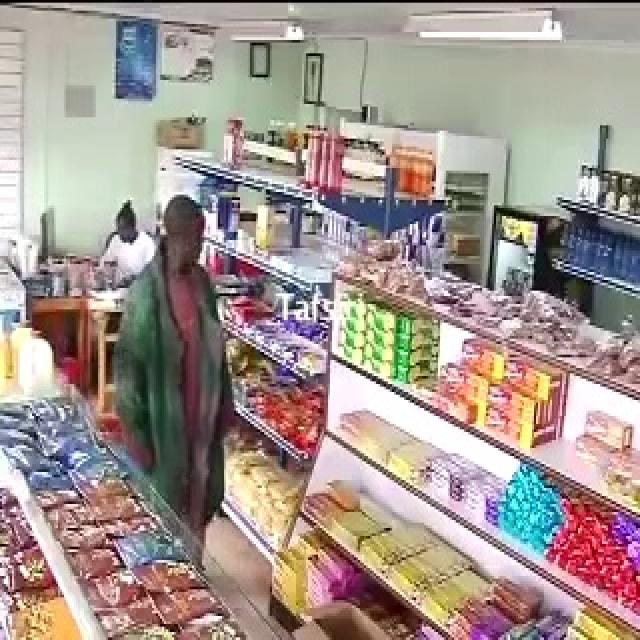normal: (111, 185, 251, 510), (111, 180, 155, 268)
